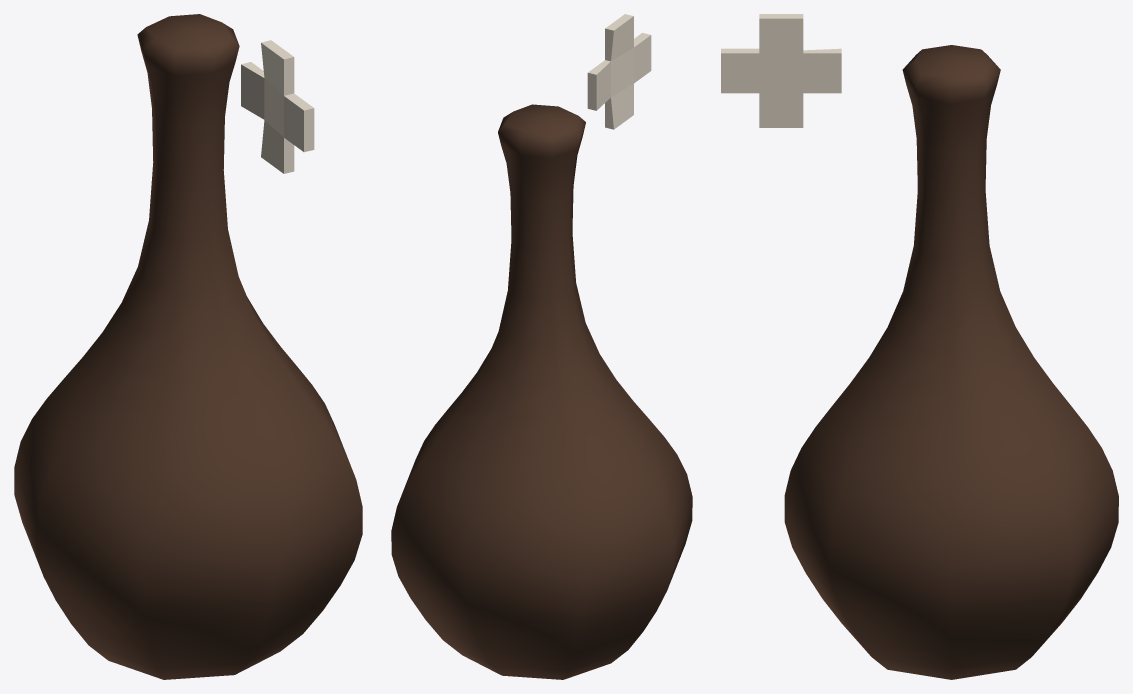
The model's file is Heal buff.fbx.
The picture shows the model from 3 angles, left to right: view 1: azimuth 30°, elevation 25°; view 2: azimuth 150°, elevation 25°; view 3: azimuth 270°, elevation 25°; orthographic projection. The views are drawn at different scales.
Parts seen in each view (by area): view 1: speed buff; view 2: speed buff; view 3: speed buff.
Boxes of the visible parts, x1,y1,x2,y2 form: speed buff: (14, 14, 362, 679); speed buff: (391, 14, 692, 679); speed buff: (721, 14, 1118, 679).
Size of the model in its own units: 0.2944 by 0.6237 by 0.3502.
